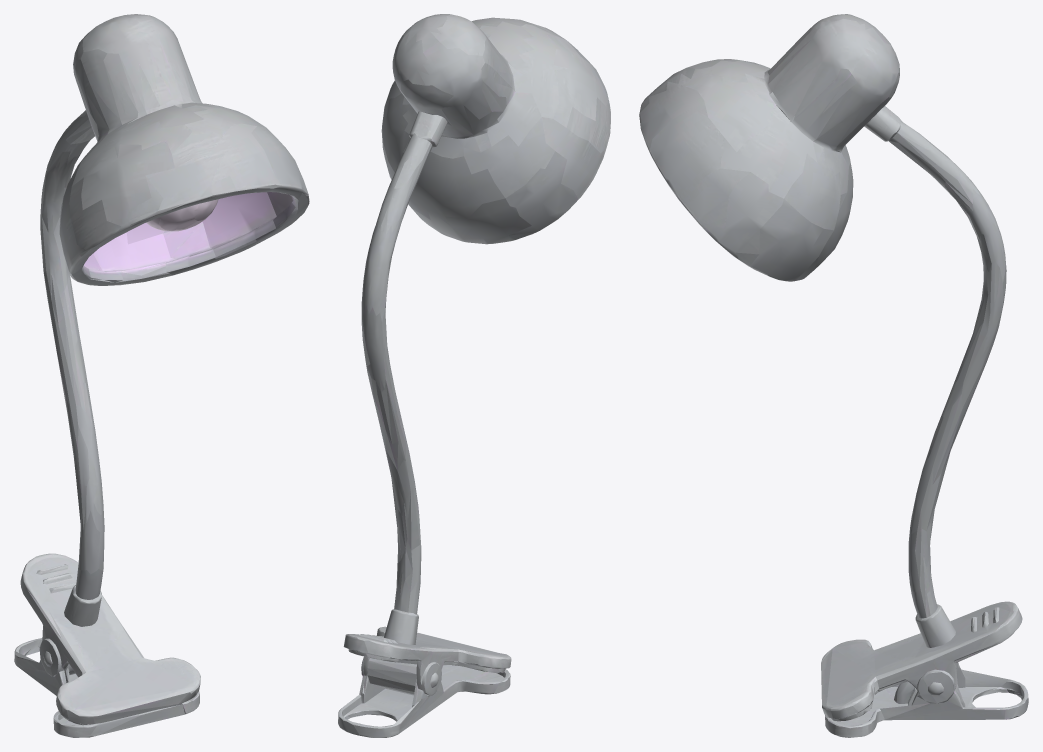
The model's file is growlight_clip.glb.
3 renders of one model, left to right at view 1: azimuth 30°, elevation 25°; view 2: azimuth 150°, elevation 25°; view 3: azimuth 270°, elevation 25°, orthographic. The views are drawn at different scales.
Size of the model in its own units: 0.622 by 1.9 by 0.9791.
Materials: 1 (1 with a texture image).
